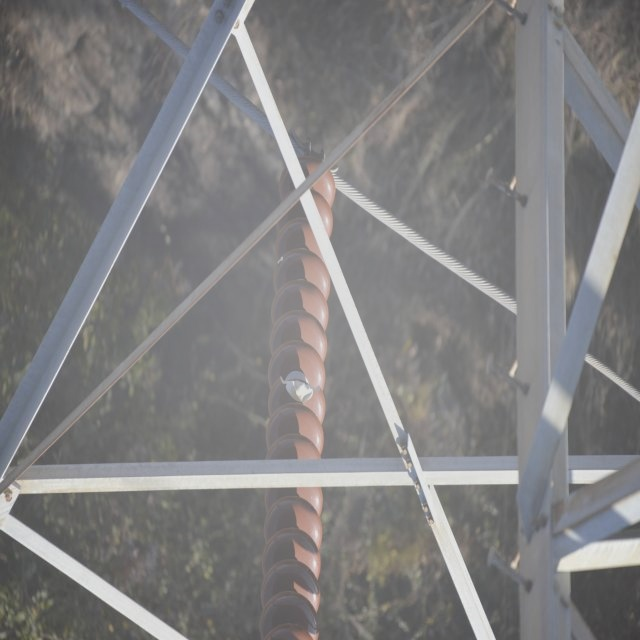broken: (278, 375, 322, 403)
insulator: (259, 151, 339, 640)
